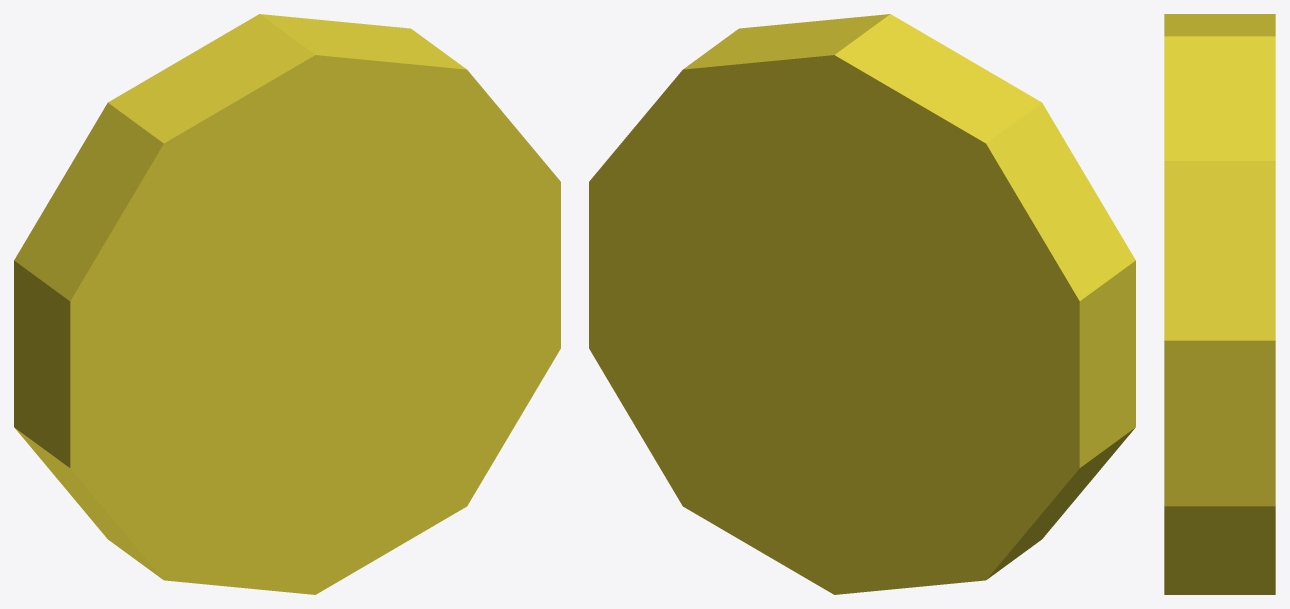
File: coin.fbx
The picture shows the model from 3 angles, left to right: view 1: azimuth 30°, elevation 25°; view 2: azimuth 150°, elevation 25°; view 3: azimuth 270°, elevation 25°; orthographic projection.
Visible parts, largest first — view 1: Cylinder; view 2: Cylinder; view 3: Cylinder.
Part boxes in pixels (x1=…): Cylinder: x1=14, y1=14, x2=560, y2=594; Cylinder: x1=589, y1=14, x2=1135, y2=594; Cylinder: x1=1164, y1=14, x2=1275, y2=594.
Bounding box in the file's own units: 190 × 200 × 37.66.
